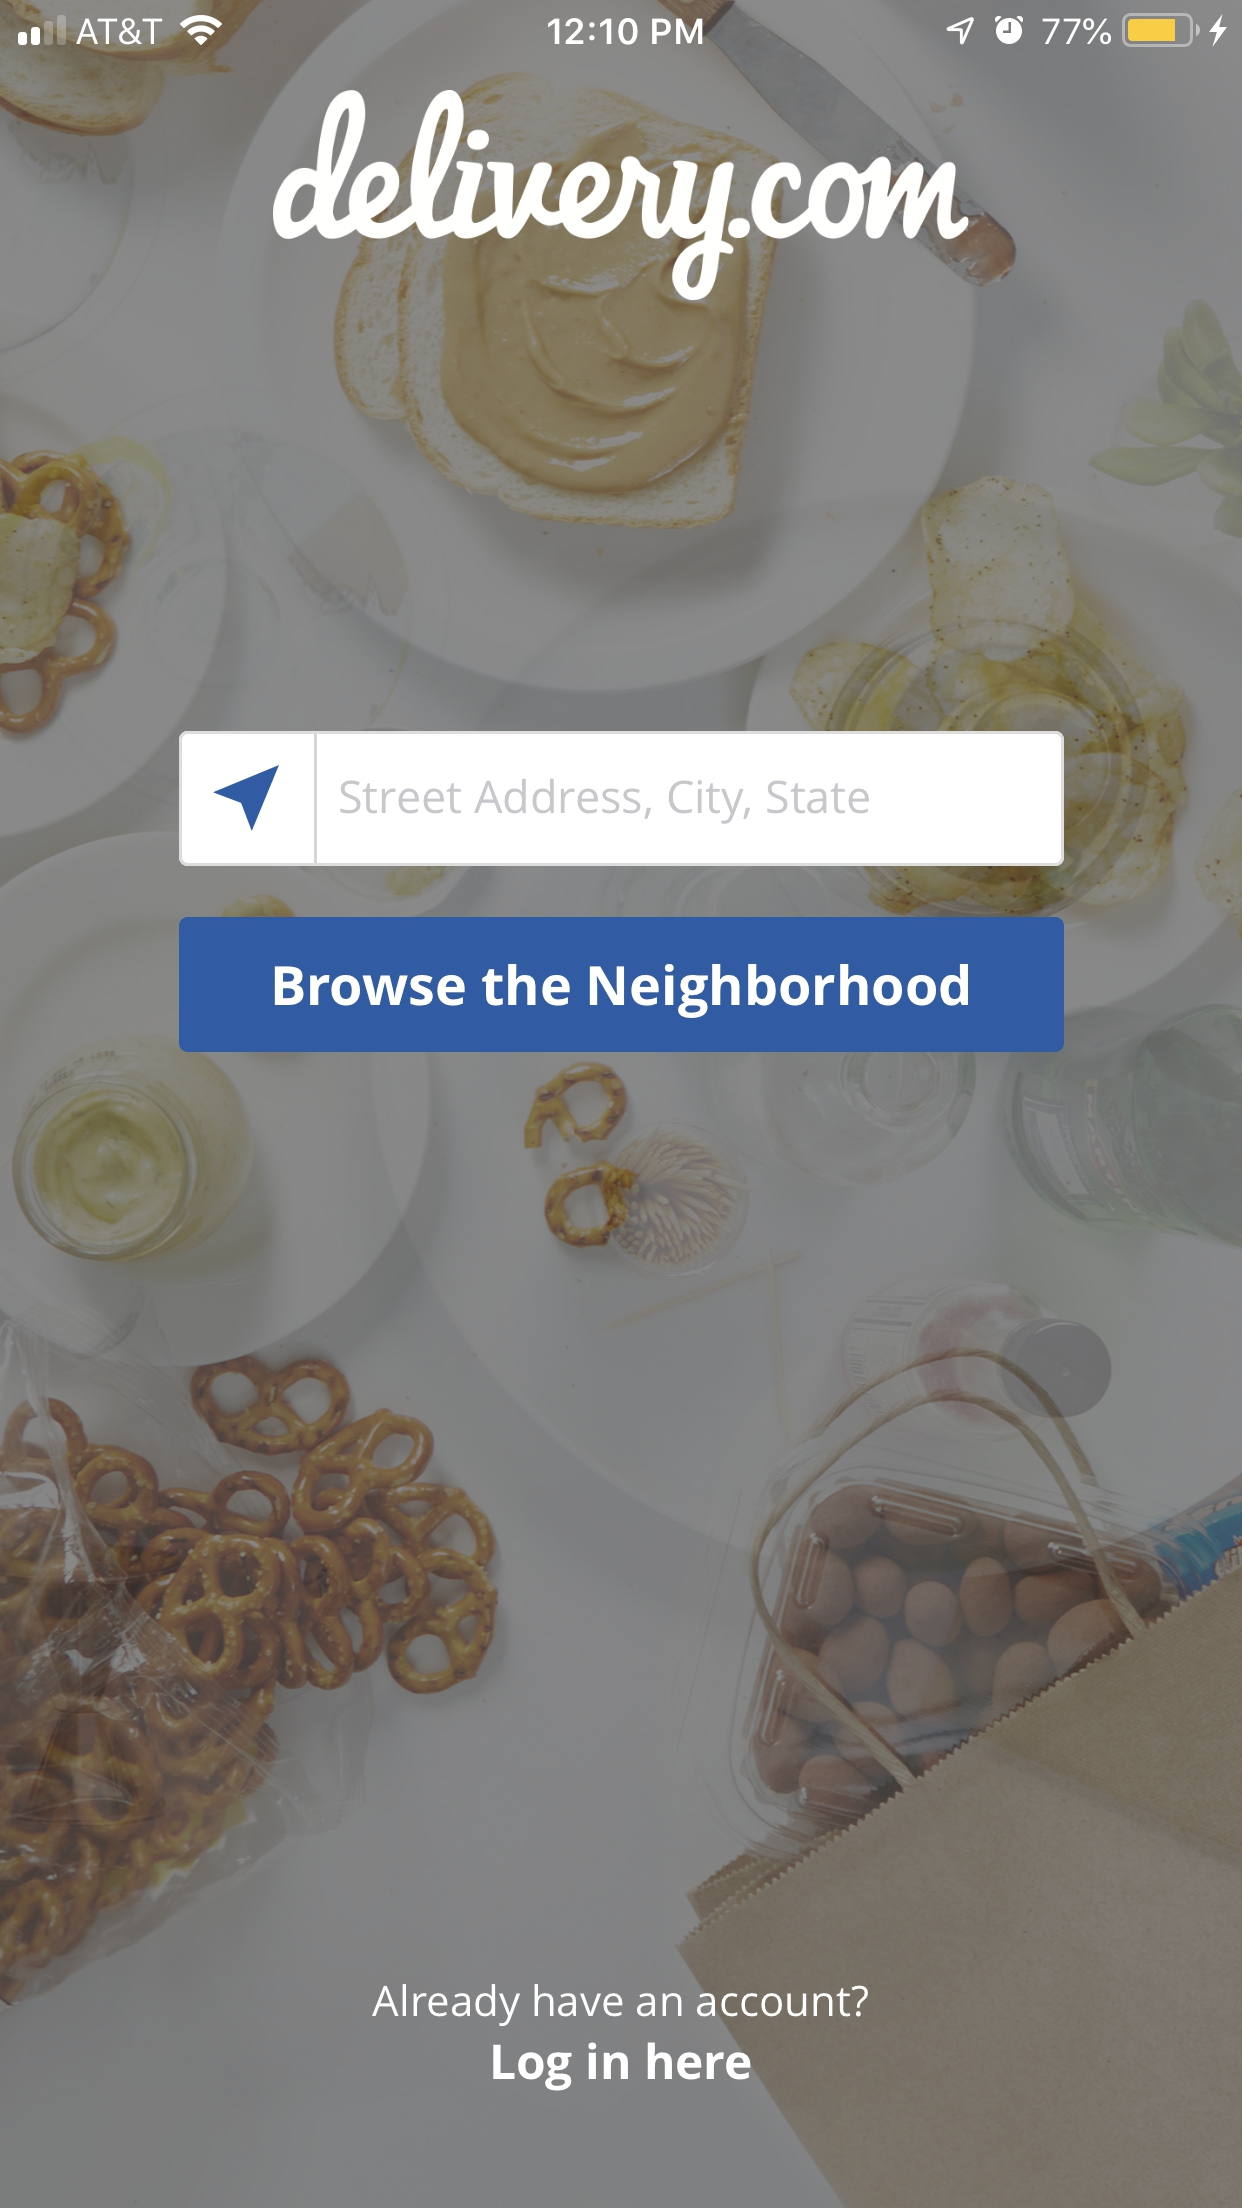BackgroundImage: (2, 2, 1242, 2208)
EditText: (179, 731, 1065, 867)
Icon: (212, 764, 281, 833)
Text: (271, 91, 969, 300), (341, 779, 870, 825), (372, 1984, 870, 2028), (493, 2041, 752, 2093)
TextButton: (179, 917, 1065, 1052)
UpperTaskBar: (2, 2, 1242, 49)
